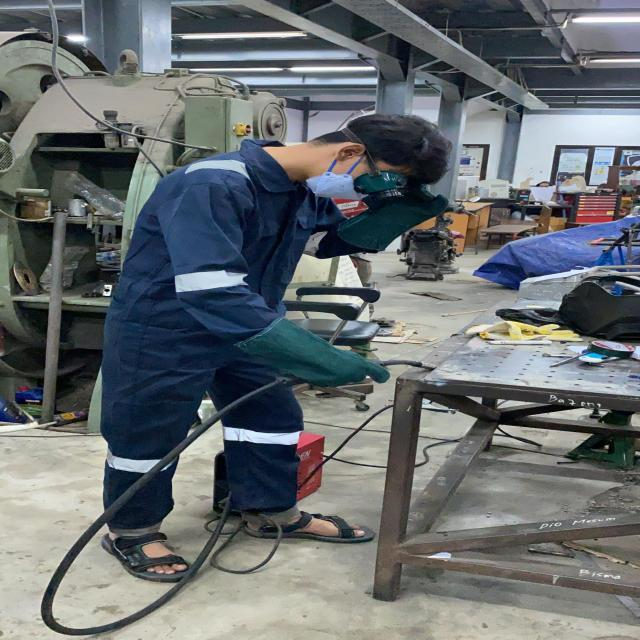glasses: (347, 163, 426, 210)
